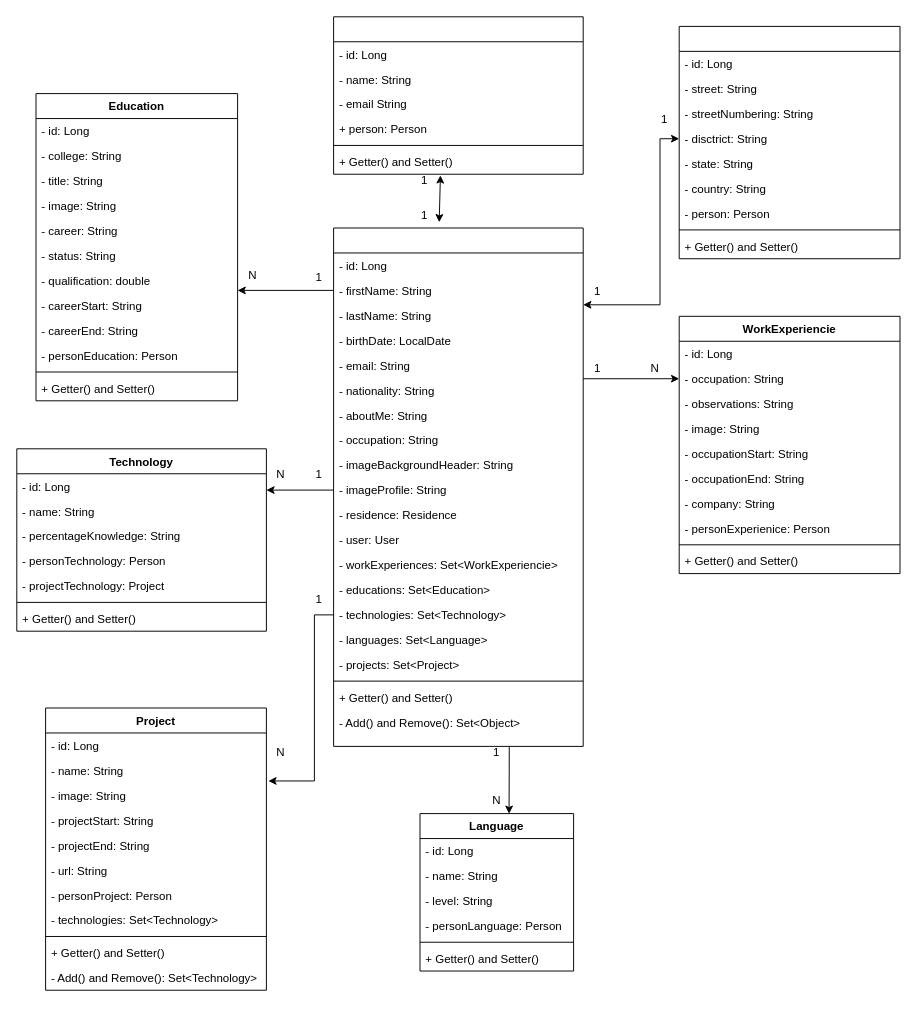
This 917x1010 diagram has some shape labels left out. Each missing label, with the box of its shape:
Person: (333, 227, 583, 746)
Residence: (678, 25, 900, 259)
User: (333, 16, 583, 174)
